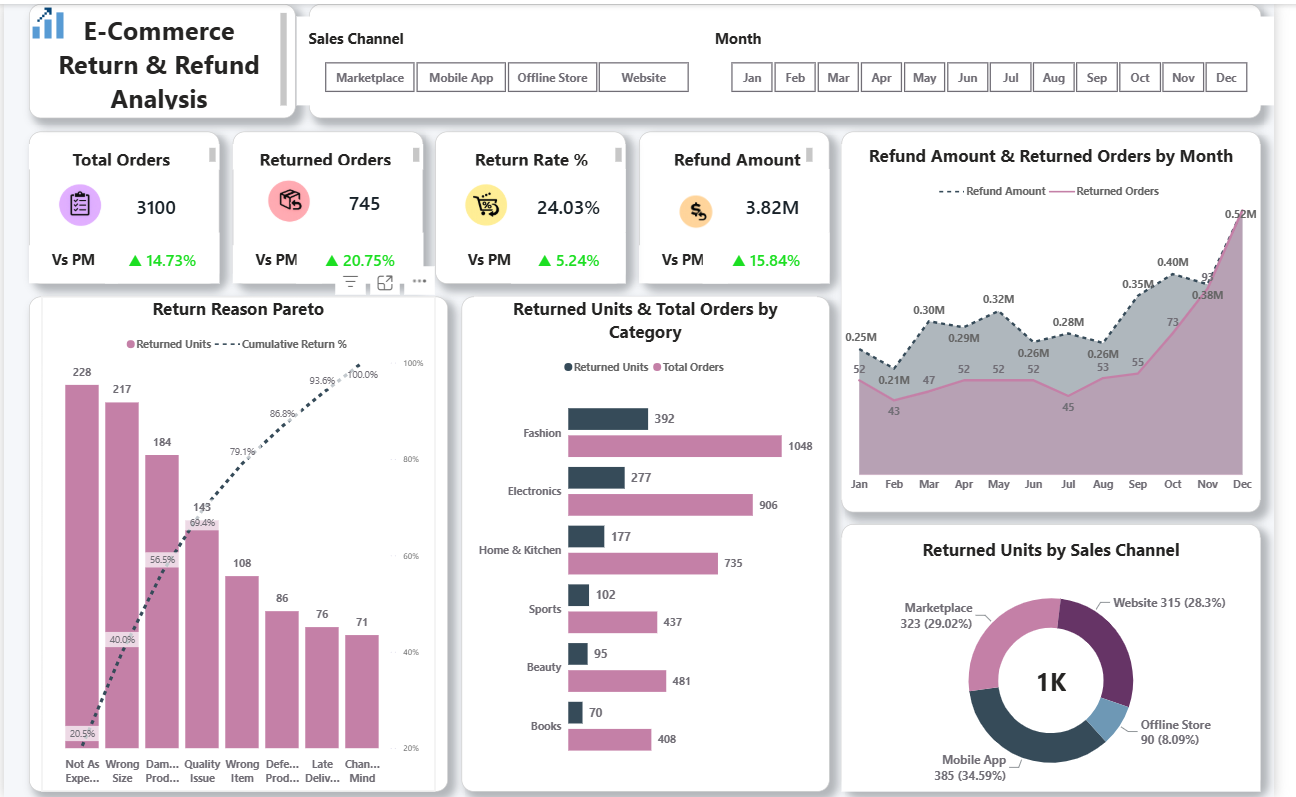

The dashboard page shown, as its layout file describes it:
{"tool":"powerbi","page":{"name":"Executive Summary","canvas":[1600,1000],"ordinal":0},"visuals":[{"type":"textbox","box":[800,160,240,192],"z":0},{"type":"textbox","box":[32,160,240,192],"z":1000},{"type":"textbox","box":[32,0,336,160],"z":2000},{"type":"textbox","box":[32,176,240,32],"z":3000},{"type":"textbox","box":[32,304,112,48],"z":4000},{"type":"textbox","box":[32,368,528,624],"z":5000},{"type":"textbox","box":[800,304,112,48],"z":6000},{"type":"cardVisual","fields":{"Data":["Measures Table.Refund Amount"]},"box":[896,208,144,80],"z":7000},{"type":"cardVisual","fields":{"Data":["Measures Table.Total Orders MoM Var"]},"box":[128,288,144,64],"z":8000},{"type":"cardVisual","fields":{"Data":["Measures Table.Refund Amount MoM Var"]},"box":[880,288,160,64],"z":9000},{"type":"image","box":[32,0,64,64],"z":10000},{"type":"textbox","box":[384,0,1200,144],"z":11000},{"type":"slicer","title":"Sales Channel","fields":{"Values":["Dim_Channel.Sales_Channel"]},"box":[368,16,528,112],"z":12000},{"type":"slicer","title":"Month","fields":{"Values":["Dim_Date.Month_Name"]},"box":[880,16,720,112],"z":13000},{"type":"image","box":[16,208,160,96],"z":14000},{"type":"cardVisual","title":"Total Orders","fields":{"Data":["Measures Table.Total Orders"]},"box":[128,208,128,80],"z":15000},{"type":"textbox","box":[288,160,240,192],"z":16000},{"type":"textbox","box":[288,176,240,48],"z":17000},{"type":"textbox","box":[288,304,112,48],"z":18000},{"type":"cardVisual","fields":{"Data":["Measures Table.Returned Orders MoM Var"]},"box":[368,288,160,64],"z":19000},{"type":"image","box":[278.9,203.3,160,96],"z":20000},{"type":"cardVisual","title":"Total Orders","fields":{"Data":["Measures Table.Returned Orders"]},"box":[390.9,203.3,128,80],"z":21000},{"type":"textbox","box":[544,160,240,192],"z":22000},{"type":"textbox","box":[560,176,224,48],"z":23000},{"type":"textbox","box":[560,304,112,32],"z":24000},{"type":"cardVisual","fields":{"Data":["Measures Table.Return Rate MoM Var"]},"box":[640,288,155,60],"z":25000},{"type":"image","box":[528,208,160,96],"z":26000},{"type":"cardVisual","title":"Total Orders","fields":{"Data":["Measures Table.Return Rate %"]},"box":[640,208,144,80],"z":27000},{"type":"textbox","box":[832,176,192,48],"z":28000},{"type":"image","box":[816,224,112,80],"z":29000},{"type":"textbox","box":[576,368,464,624],"z":30000},{"type":"textbox","box":[1056,160,528,480],"z":31000},{"type":"textbox","box":[1056,656,528,336],"z":32000},{"type":"lineClusteredColumnComboChart","title":"Return Reason Pareto","fields":{"Y":["Measures Table.Returned Units"],"Category":["Dim_Reason.Return_Reason"],"Y2":["Measures Table.Cumulative Return %"]},"box":[32,384,512,608],"z":33000},{"type":"donutChart","title":"Returned Units by Sales Channel","fields":{"Y":["Measures Table.Returned Units"],"Category":["Dim_Channel.Sales_Channel"]},"box":[1056,672,528,320],"z":34000},{"type":"areaChart","title":"Refund Amount & Returned Orders by Month","fields":{"Category":["Dim_Date.Month_Name"],"Y":["Measures Table.Refund Amount"],"Y2":["Measures Table.Returned_Orders"]},"box":[1056,176,528,448],"z":35000},{"type":"clusteredBarChart","title":"Returned Units & Total Orders by Category","fields":{"Y":["Measures Table.Returned Units","Measures Table.Total Orders"],"Category":["Dim_Products.Category"]},"box":[592,368,432,608],"z":36000}]}

Visuals, with their boxes in screenshot pixels (x1, y1, x2, y2), scaled from the page's 1600x1000 canvas onto the 1296x797 screenshot:
textbox: select_region(648, 128, 842, 281)
textbox: select_region(26, 128, 220, 281)
textbox: select_region(26, 0, 298, 128)
textbox: select_region(26, 140, 220, 166)
textbox: select_region(26, 242, 117, 281)
textbox: select_region(26, 293, 454, 791)
textbox: select_region(648, 242, 739, 281)
cardVisual - Measures Table.Refund Amount: select_region(726, 166, 842, 230)
cardVisual - Measures Table.Total Orders MoM Var: select_region(104, 230, 220, 281)
cardVisual - Measures Table.Refund Amount MoM Var: select_region(713, 230, 842, 281)
image: select_region(26, 0, 78, 51)
textbox: select_region(311, 0, 1283, 115)
"Sales Channel" slicer: select_region(298, 13, 726, 102)
"Month" slicer: select_region(713, 13, 1295, 102)
image: select_region(13, 166, 143, 242)
"Total Orders" cardVisual: select_region(104, 166, 207, 230)
textbox: select_region(233, 128, 428, 281)
textbox: select_region(233, 140, 428, 179)
textbox: select_region(233, 242, 324, 281)
cardVisual - Measures Table.Returned Orders MoM Var: select_region(298, 230, 428, 281)
image: select_region(226, 162, 356, 239)
"Total Orders" cardVisual: select_region(317, 162, 420, 226)
textbox: select_region(441, 128, 635, 281)
textbox: select_region(454, 140, 635, 179)
textbox: select_region(454, 242, 544, 268)
cardVisual - Measures Table.Return Rate MoM Var: select_region(518, 230, 644, 277)
image: select_region(428, 166, 557, 242)
"Total Orders" cardVisual: select_region(518, 166, 635, 230)
textbox: select_region(674, 140, 829, 179)
image: select_region(661, 179, 752, 242)
textbox: select_region(467, 293, 842, 791)
textbox: select_region(855, 128, 1283, 510)
textbox: select_region(855, 523, 1283, 791)
"Return Reason Pareto" lineClusteredColumnComboChart: select_region(26, 306, 441, 791)
"Returned Units by Sales Channel" donutChart: select_region(855, 536, 1283, 791)
"Refund Amount & Returned Orders by Month" areaChart: select_region(855, 140, 1283, 497)
"Returned Units & Total Orders by Category" clusteredBarChart: select_region(480, 293, 829, 778)
